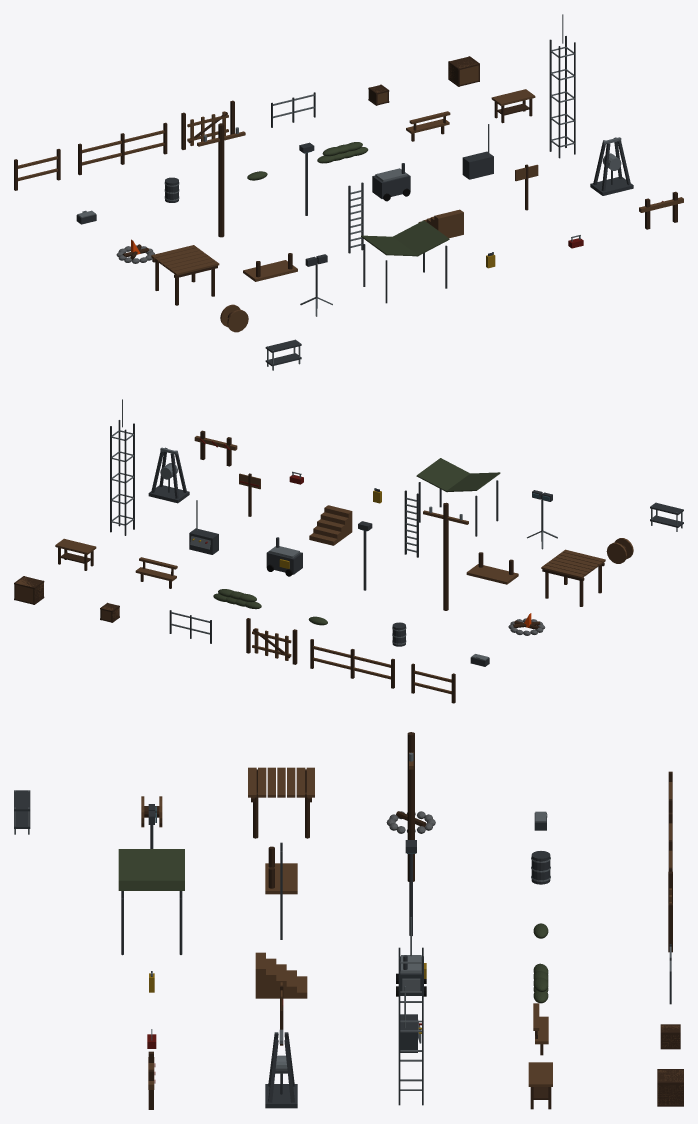
Rendered from AUR_PropKit_PreviewLayout.obj.
The picture shows the model from 3 angles, top to bottom: view 1: azimuth 30°, elevation 25°; view 2: azimuth 150°, elevation 25°; view 3: azimuth 270°, elevation 25°; orthographic projection. The views are drawn at different scales.
Visible parts, largest first — view 1: AUR_TarpShelter_tarp_right_182, AUR_UtilityPole_pole_75, AUR_CommsConsole_cabinet_92, AUR_Stairs_1m_step_154, AUR_TarpShelter_tarp_left_181, AUR_Generator_body_83, AUR_Dock_End_deck_136; view 2: AUR_TarpShelter_tarp_right_182, AUR_UtilityPole_pole_75, AUR_Dock_End_deck_136, AUR_TarpShelter_tarp_left_181, AUR_Generator_body_83, AUR_CommsConsole_cabinet_92; view 3: AUR_TarpShelter_tarp_left_181, AUR_UtilityPole_pole_75, AUR_Dock_End_deck_136, AUR_TarpShelter_tarp_right_182, AUR_ExcavationWinch_base_158, AUR_WorkTable_top_54, AUR_CommsConsole_cabinet_92, AUR_Barrel_barrel_36, AUR_Crate_Large_frame_30.
Boxes of the visible parts, x1,y1,x2,y2 form: AUR_TarpShelter_tarp_right_182: (393,220,449,256); AUR_UtilityPole_pole_75: (218,123,224,237); AUR_CommsConsole_cabinet_92: (462,151,493,179); AUR_Stairs_1m_step_154: (434,209,463,238); AUR_TarpShelter_tarp_left_181: (361,235,418,256); AUR_Generator_body_83: (372,174,410,198); AUR_Dock_End_deck_136: (243,260,297,281); AUR_TarpShelter_tarp_right_182: (416,458,469,492); AUR_UtilityPole_pole_75: (443,502,448,610); AUR_Dock_End_deck_136: (466,564,518,584); AUR_TarpShelter_tarp_left_181: (445,472,500,491); AUR_Generator_body_83: (266,551,302,574); AUR_CommsConsole_cabinet_92: (189,528,218,554); AUR_TarpShelter_tarp_left_181: (118,849,184,880); AUR_UtilityPole_pole_75: (407,732,414,881); AUR_Dock_End_deck_136: (265,863,297,894); AUR_TarpShelter_tarp_right_182: (118,880,184,890); AUR_ExcavationWinch_base_158: (265,1084,297,1108); AUR_WorkTable_top_54: (528,1062,552,1086); AUR_CommsConsole_cabinet_92: (400,1014,417,1052); AUR_Barrel_barrel_36: (531,851,550,884); AUR_Crate_Large_frame_30: (657,1082,683,1104).
Size of the model in its own units: 22.06 by 6.2 by 20.66.
